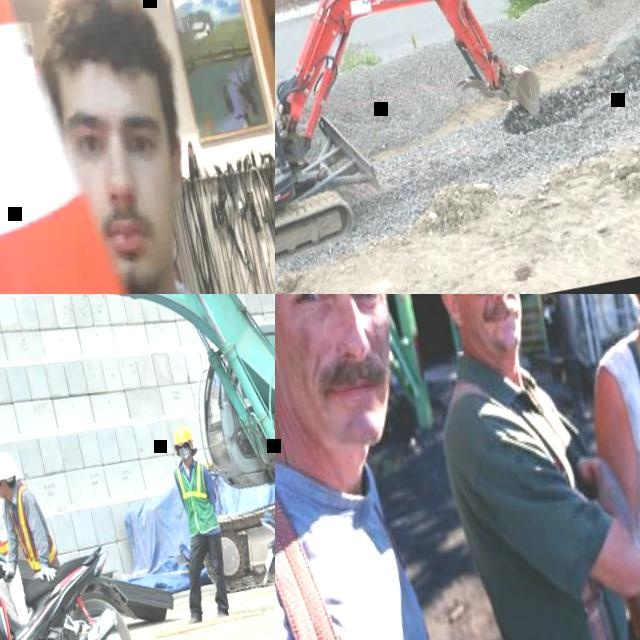Hardhat: (0, 448, 18, 479), (172, 424, 194, 445)
Mask: (177, 447, 192, 461)
NO-Hardhat: (30, 0, 168, 103)
NO-Mask: (277, 342, 407, 462), (94, 193, 174, 294), (462, 294, 533, 357), (0, 484, 10, 499)
NO-Safety Vest: (435, 363, 638, 640), (275, 441, 439, 640), (603, 321, 640, 563)
Person: (390, 294, 640, 640), (275, 294, 496, 640), (20, 0, 275, 294), (545, 294, 640, 640), (148, 419, 239, 626), (0, 443, 87, 640), (0, 446, 39, 640)
Safety Cone: (0, 0, 224, 294)
Safety Vest: (3, 476, 62, 575), (174, 458, 219, 534), (0, 479, 13, 557)
machinery: (0, 294, 275, 640), (275, 0, 569, 294)
